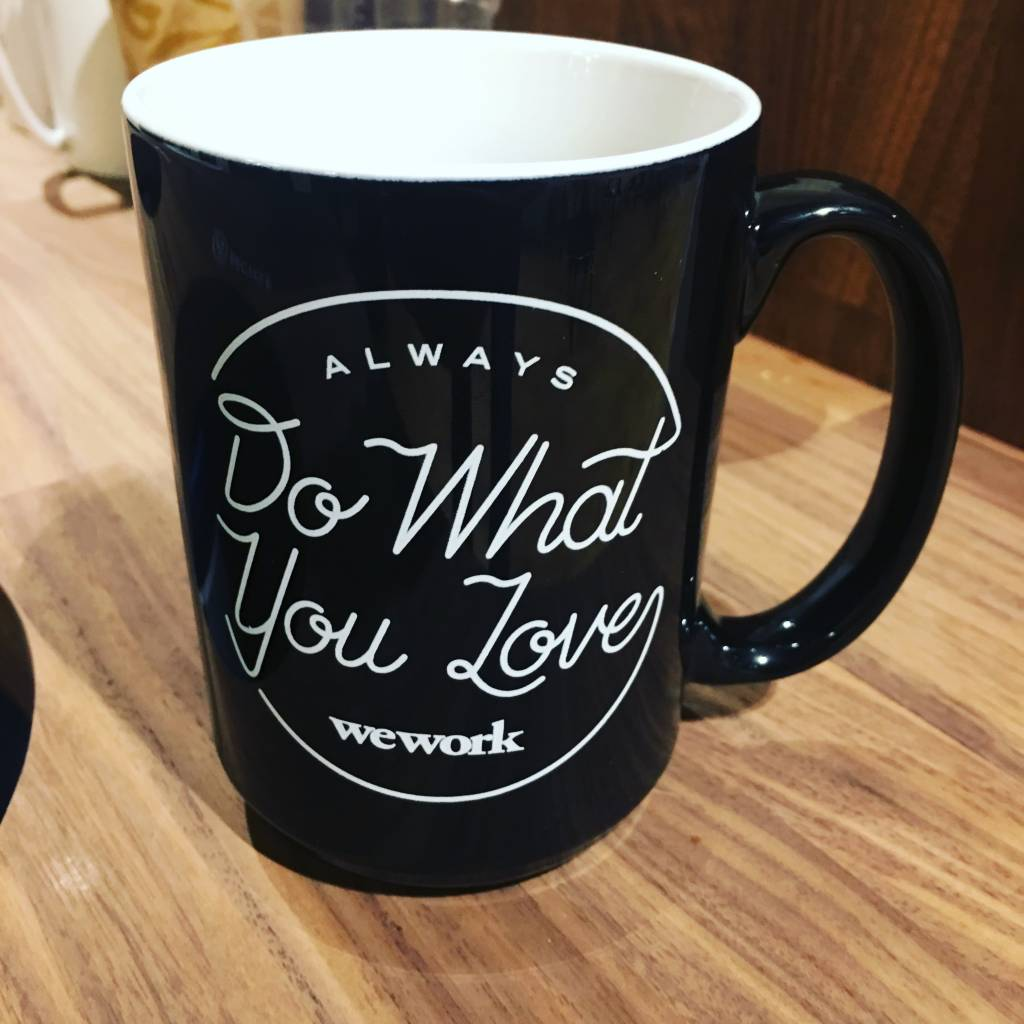wework: (321, 709, 531, 759)
